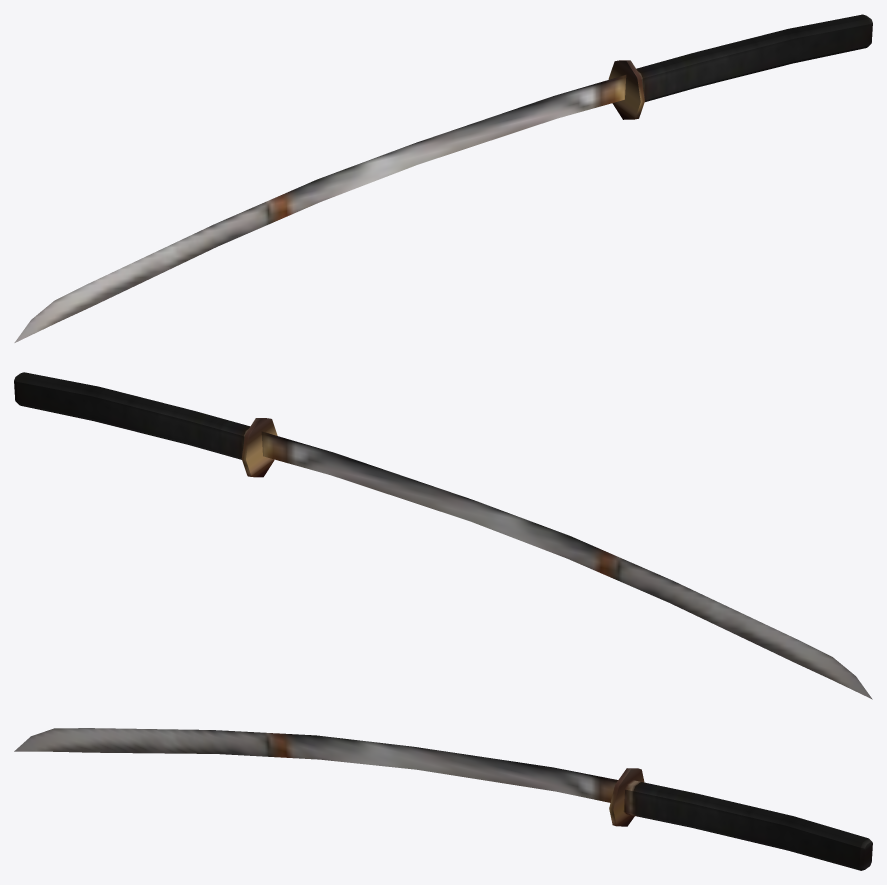
Rendered from katana_1.FBX.
3 views of the same model, one above another, from view 1: azimuth 30°, elevation 25°; view 2: azimuth 150°, elevation 25°; view 3: azimuth 330°, elevation 25° (orthographic).
Parts seen in each view (by area): view 1: katana_1; view 2: katana_1; view 3: katana_1.
Boxes of the visible parts, <box> form: katana_1: <box>14,14,872,342</box>; katana_1: <box>14,372,872,699</box>; katana_1: <box>14,728,872,870</box>.
Size of the model in its own units: 111 by 16.38 by 7.19.
